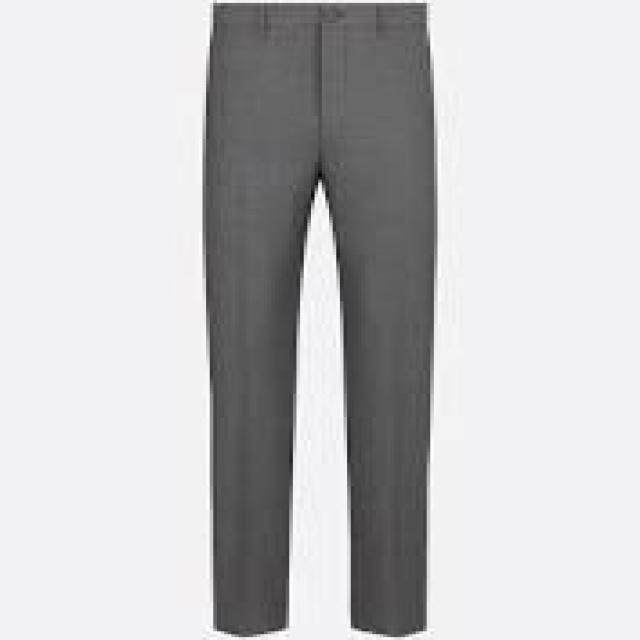long-pants: (197, 3, 440, 640)
